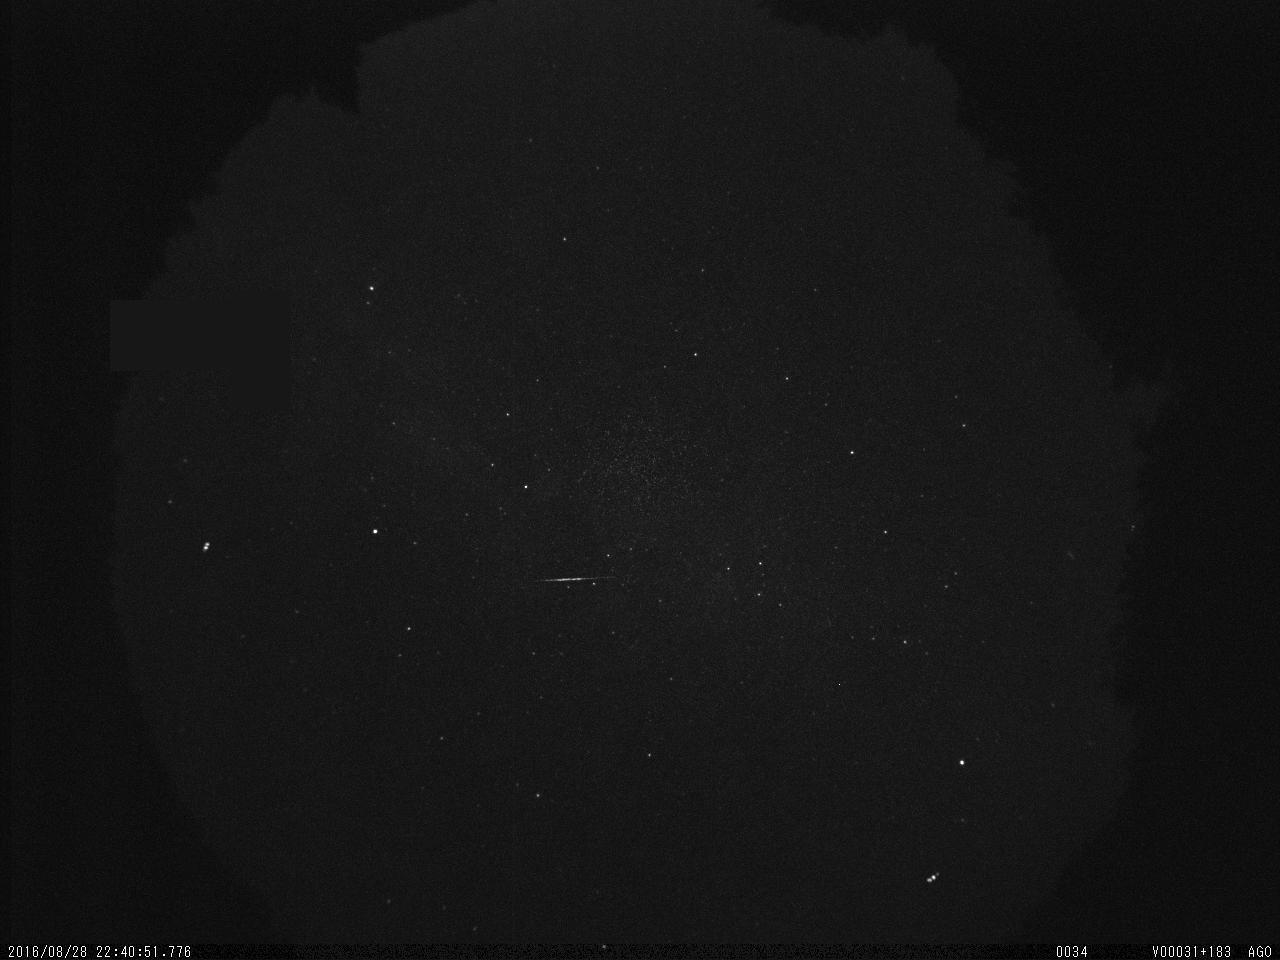meteor: (518, 564, 628, 594)
